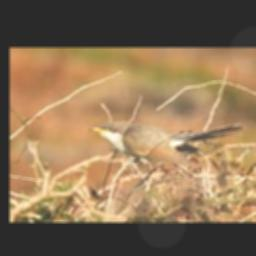Cuckoo: (86, 122, 242, 164)
